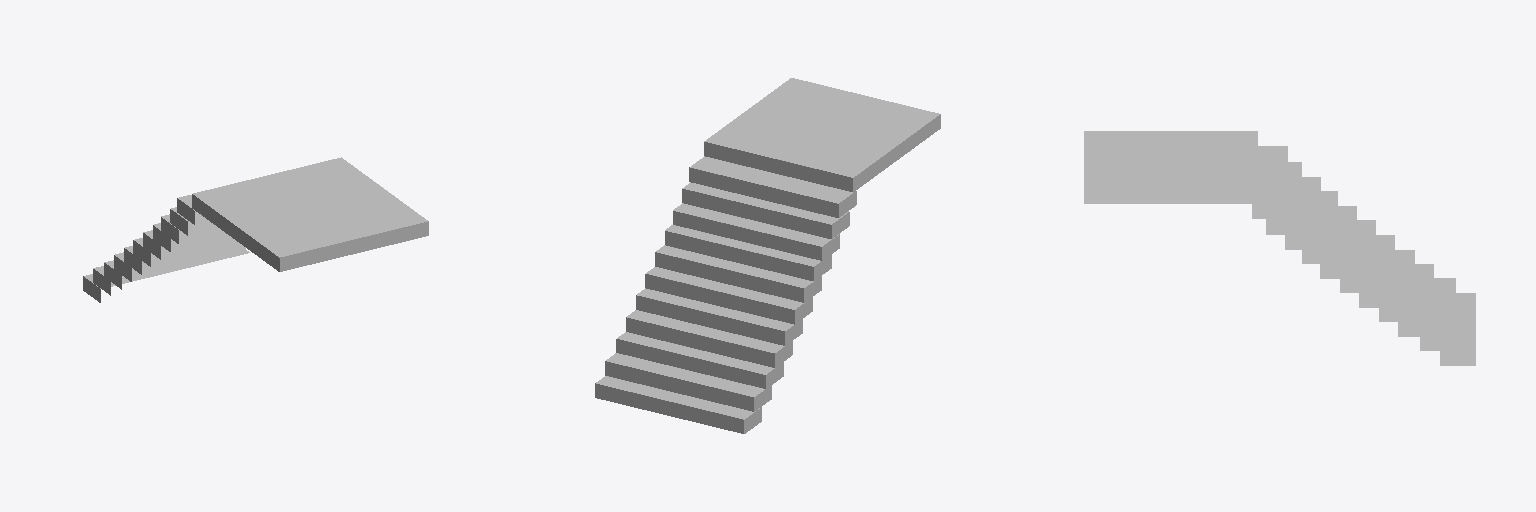
File: stairs.obj
3 views of the same model, side by side, from view 1: azimuth 30°, elevation 25°; view 2: azimuth 150°, elevation 25°; view 3: azimuth 270°, elevation 25° (orthographic).
Visible parts, largest first — view 1: Stairs; view 2: Stairs; view 3: Stairs.
Boxes of the visible parts, box(x1,y1,x2,y2) form: Stairs: box(83, 157, 428, 302); Stairs: box(595, 78, 940, 433); Stairs: box(1084, 131, 1475, 365).
Size of the model in its own units: 16.44 by 18.59 by 37.46.